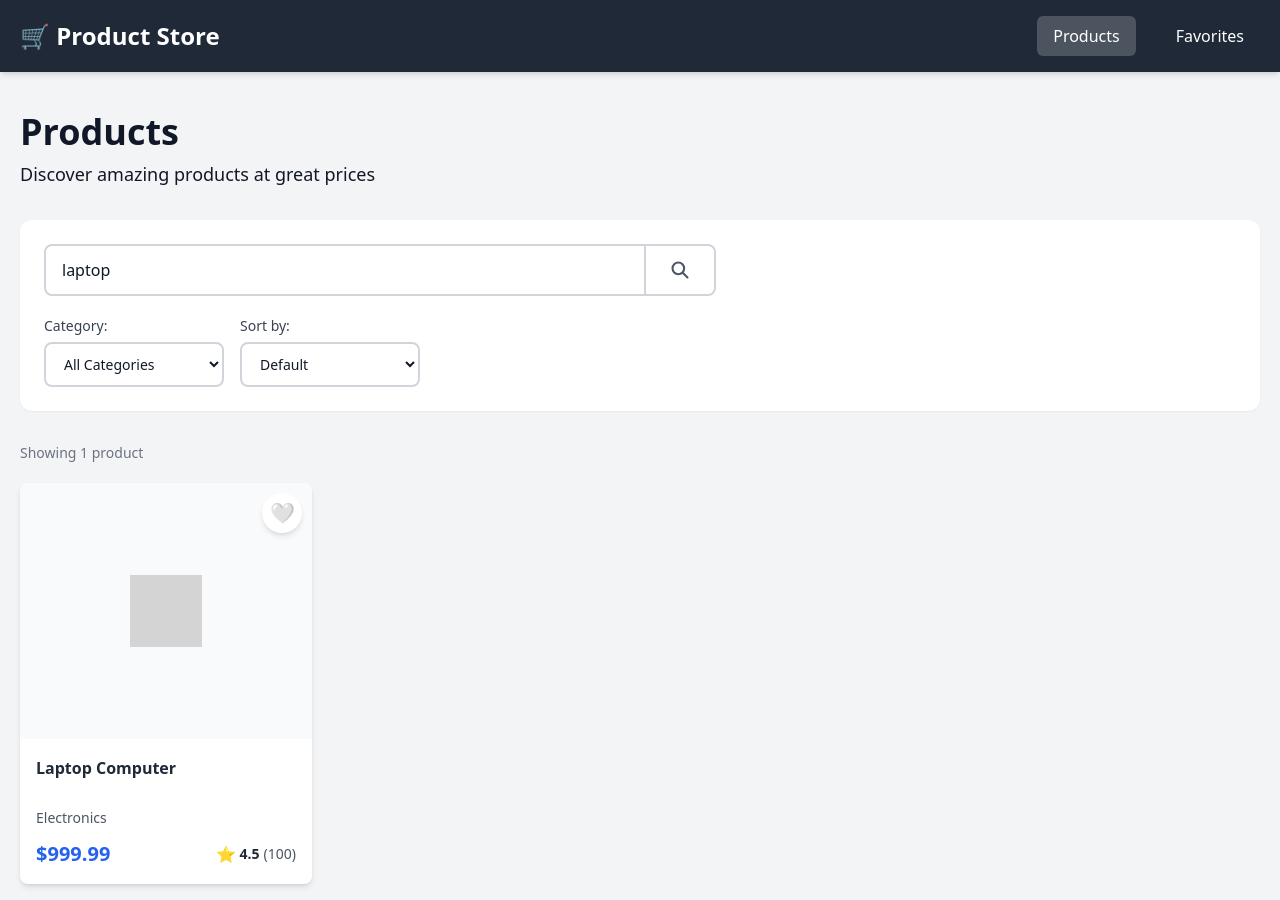
Test: Product Flow Integration Tests › should add and remove products from favorites
The width and height of the screenshot is (1280, 900).
Expected: the heading "Laptop Computer" is shown, x1=36 y1=757 x2=176 y2=779
# Click the heart button on first product
Click the button named "Add to favorites": x=282, y=513 x1=262 y1=493 x2=302 y2=533
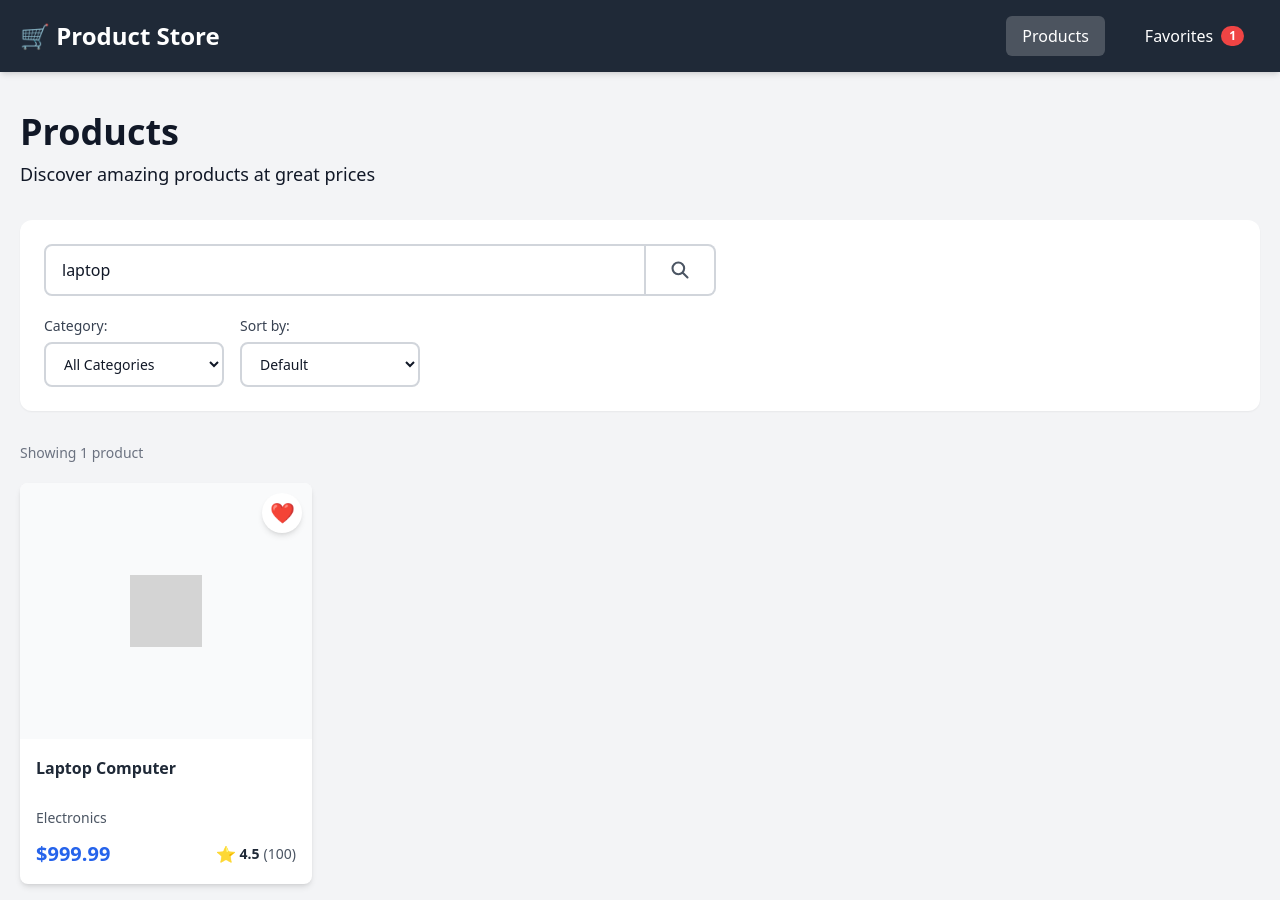
Expected: the text "1" is shown, x1=1221 y1=26 x2=1244 y2=46
# Go to favorites page
Click the link "Favorites 1": x=1194, y=36 x1=1145 y1=25 x2=1244 y2=47
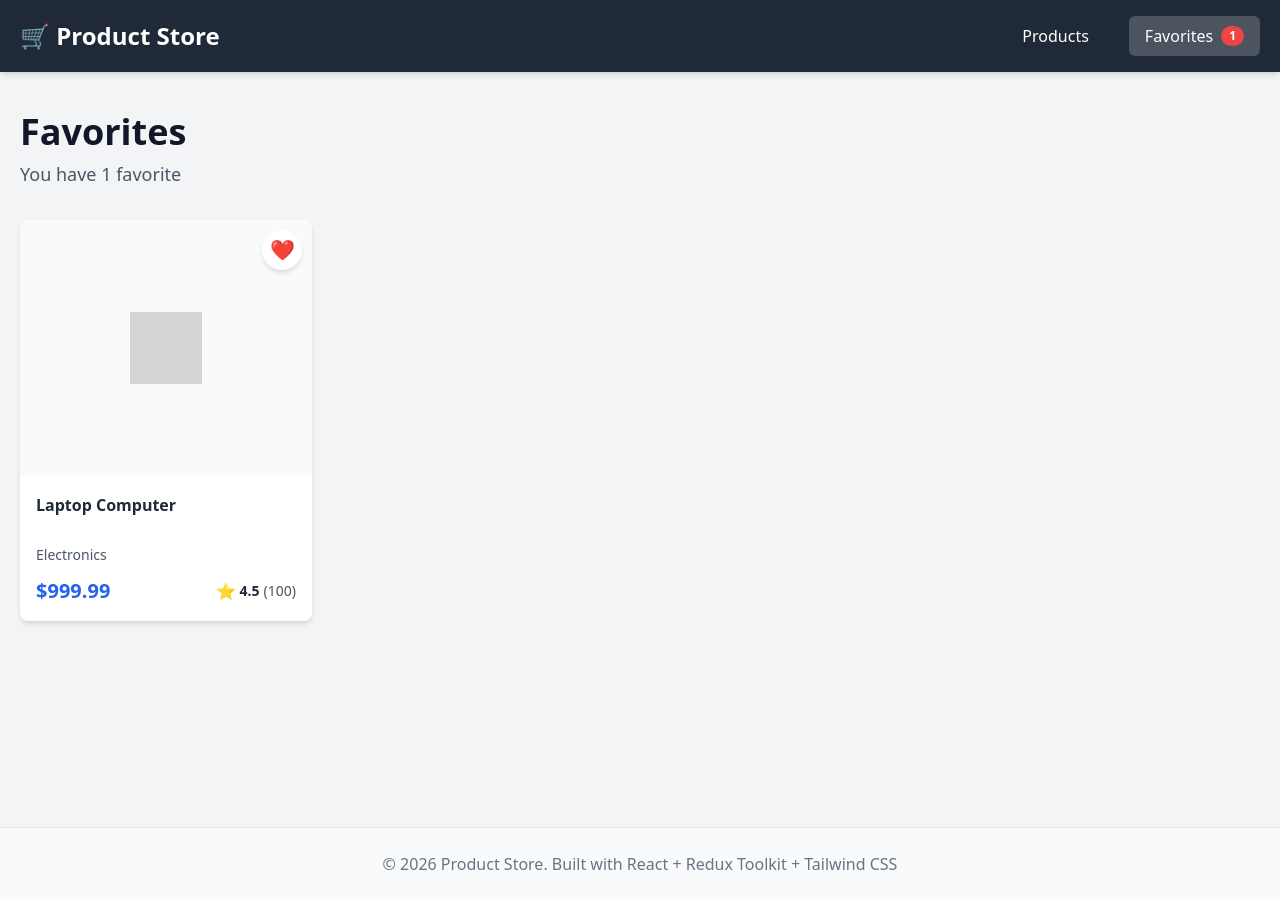
Expected: the heading "Laptop Computer" is shown, x1=36 y1=494 x2=176 y2=516
# Unfavorite it
Click the button named "Remove from favorites": x=282, y=250 x1=262 y1=230 x2=302 y2=270
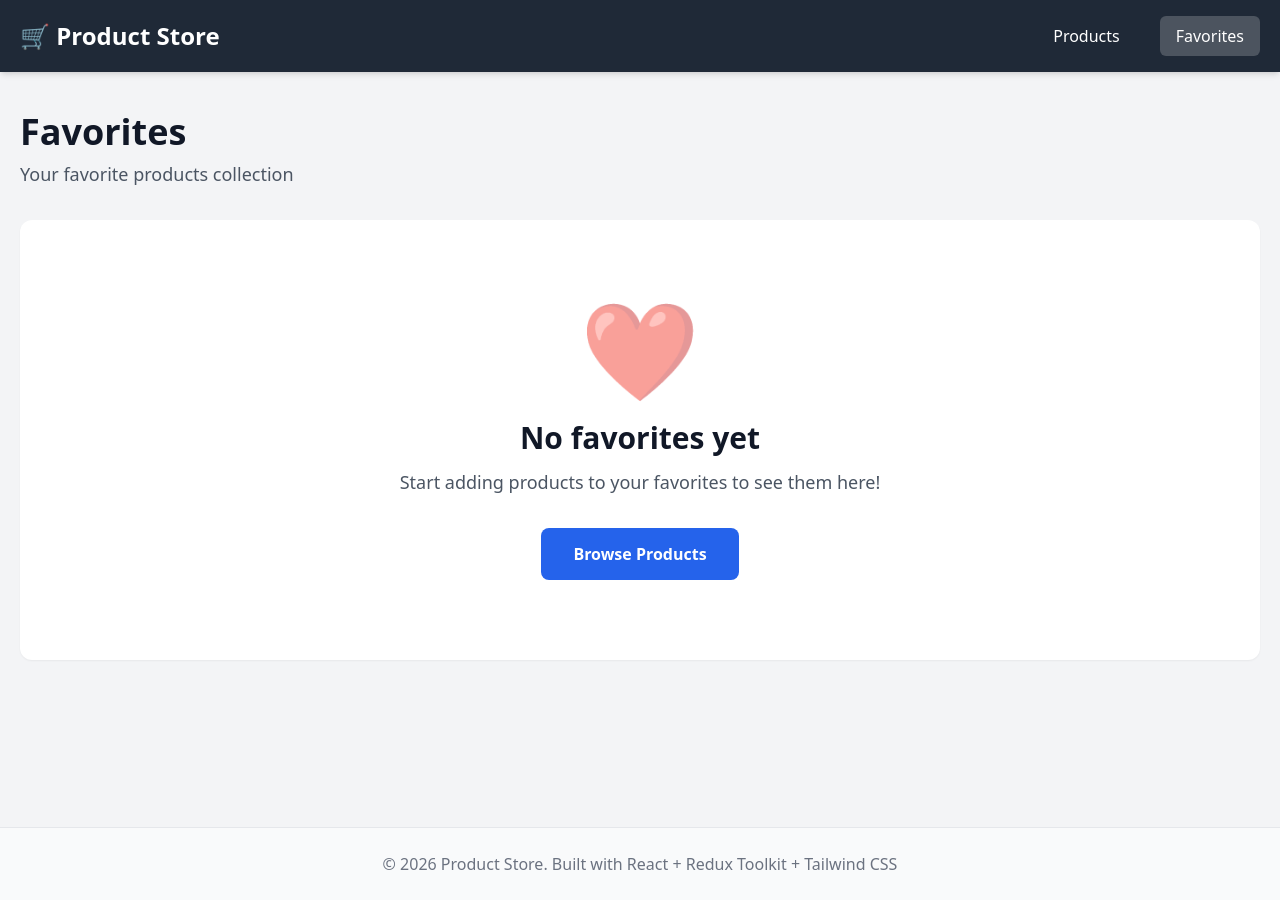
Expected: the heading "No favorites yet" is shown, x1=520 y1=420 x2=760 y2=456
